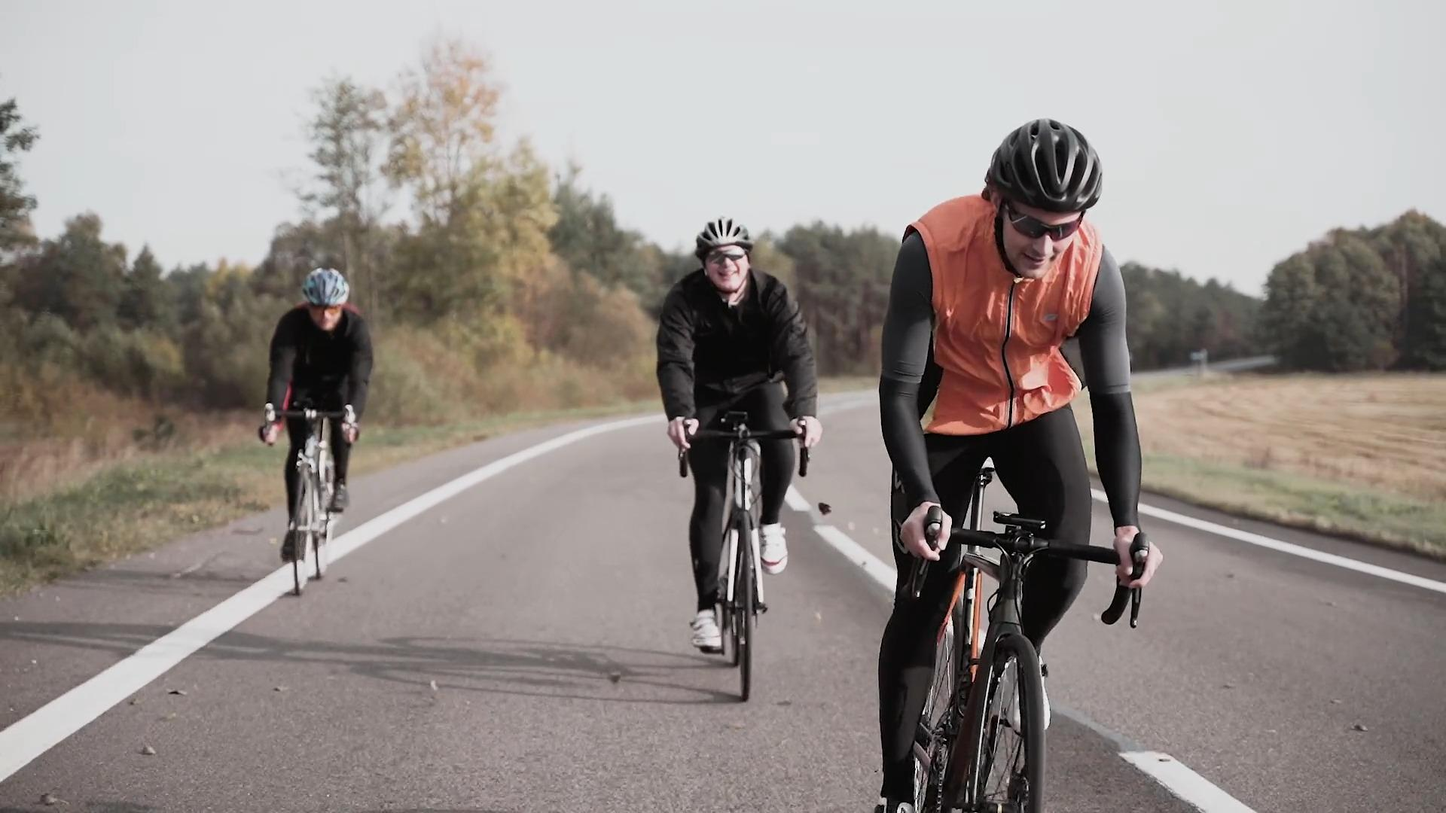bicyclist: (875, 115, 1161, 813), (656, 215, 822, 704), (258, 267, 375, 596)
helmet: (981, 116, 1102, 279), (694, 216, 755, 296), (300, 268, 350, 330)
